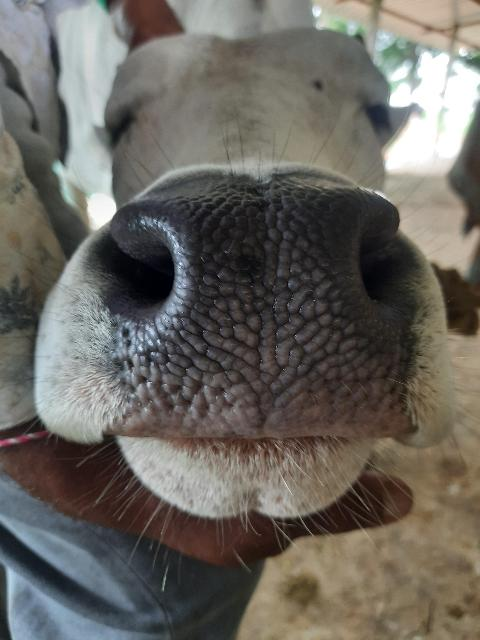Muzzle: (158, 197, 374, 423)
